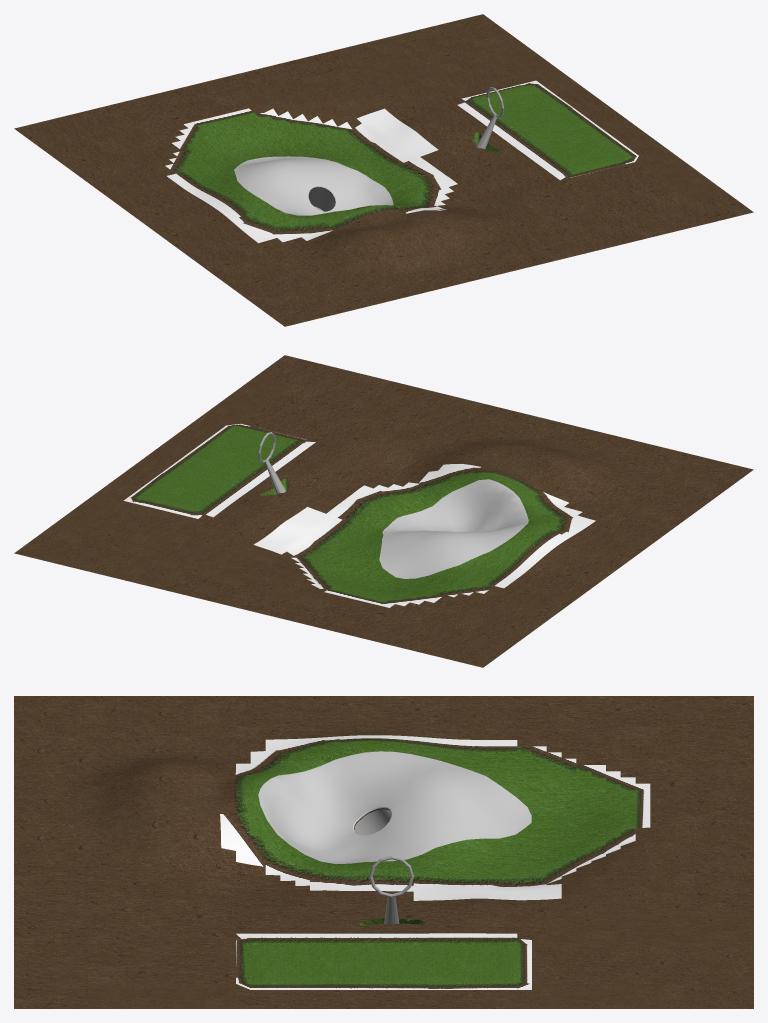
The model's file is Hole018set.fbx.
3 views of the same model, one above another, from view 1: azimuth 30°, elevation 25°; view 2: azimuth 150°, elevation 25°; view 3: azimuth 270°, elevation 25° (orthographic). The views are drawn at different scales.
Parts seen in each view (by area): view 1: Hole018MeshTerrain2; view 2: Hole018MeshTerrain2; view 3: Hole018MeshTerrain2, HolderforTorrusObstacle1.
Boxes of the visible parts, x1,y1,x2,y2 form: Hole018MeshTerrain2: (14,14,753,326); Hole018MeshTerrain2: (14,355,753,667); Hole018MeshTerrain2: (14,696,753,1008); HolderforTorrusObstacle1: (369,856,413,924).
Bounding box in the file's own units: 204 × 39.4 × 204.
